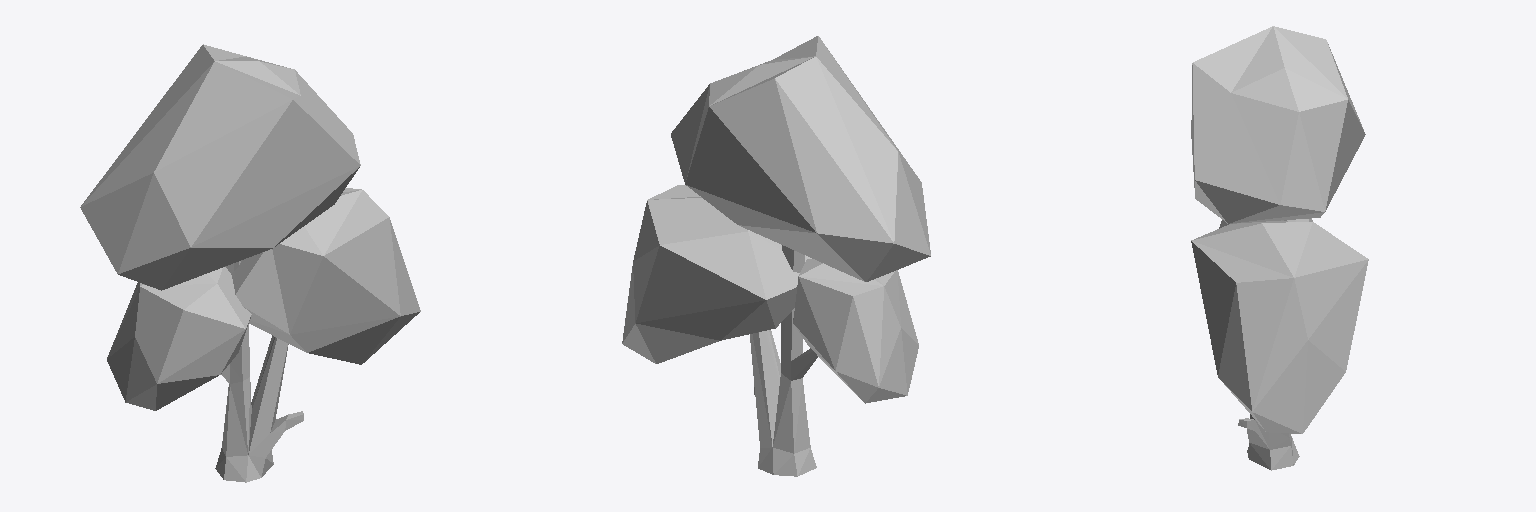
Rendered from Forest_C_Tree_16.obj.
3 renders of one model, left to right at view 1: azimuth 30°, elevation 25°; view 2: azimuth 150°, elevation 25°; view 3: azimuth 270°, elevation 25°, orthographic.
Visible parts, largest first — view 1: Forest_C_Tree_16; view 2: Forest_C_Tree_16; view 3: Forest_C_Tree_16.
Part boxes in pixels (bbox=[...]): Forest_C_Tree_16: bbox=[80, 44, 420, 482]; Forest_C_Tree_16: bbox=[622, 36, 930, 476]; Forest_C_Tree_16: bbox=[1191, 26, 1368, 470].
Bounding box in the file's own units: 253 × 333 × 129.